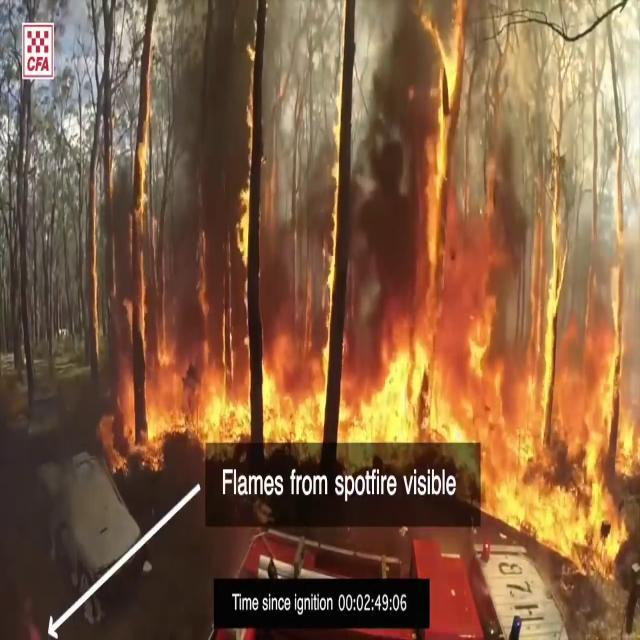Fire: (110, 10, 638, 459), (485, 178, 640, 618)
